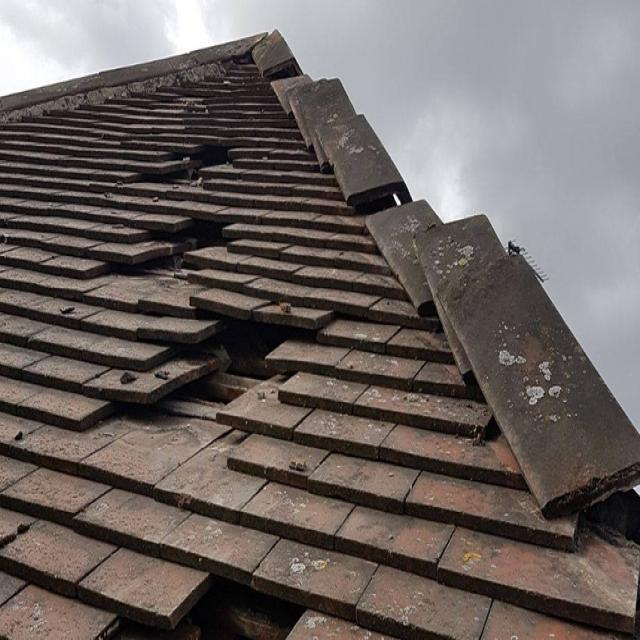damaged_roof: (116, 286, 308, 438), (94, 552, 316, 640), (152, 199, 239, 273), (182, 123, 234, 189)
